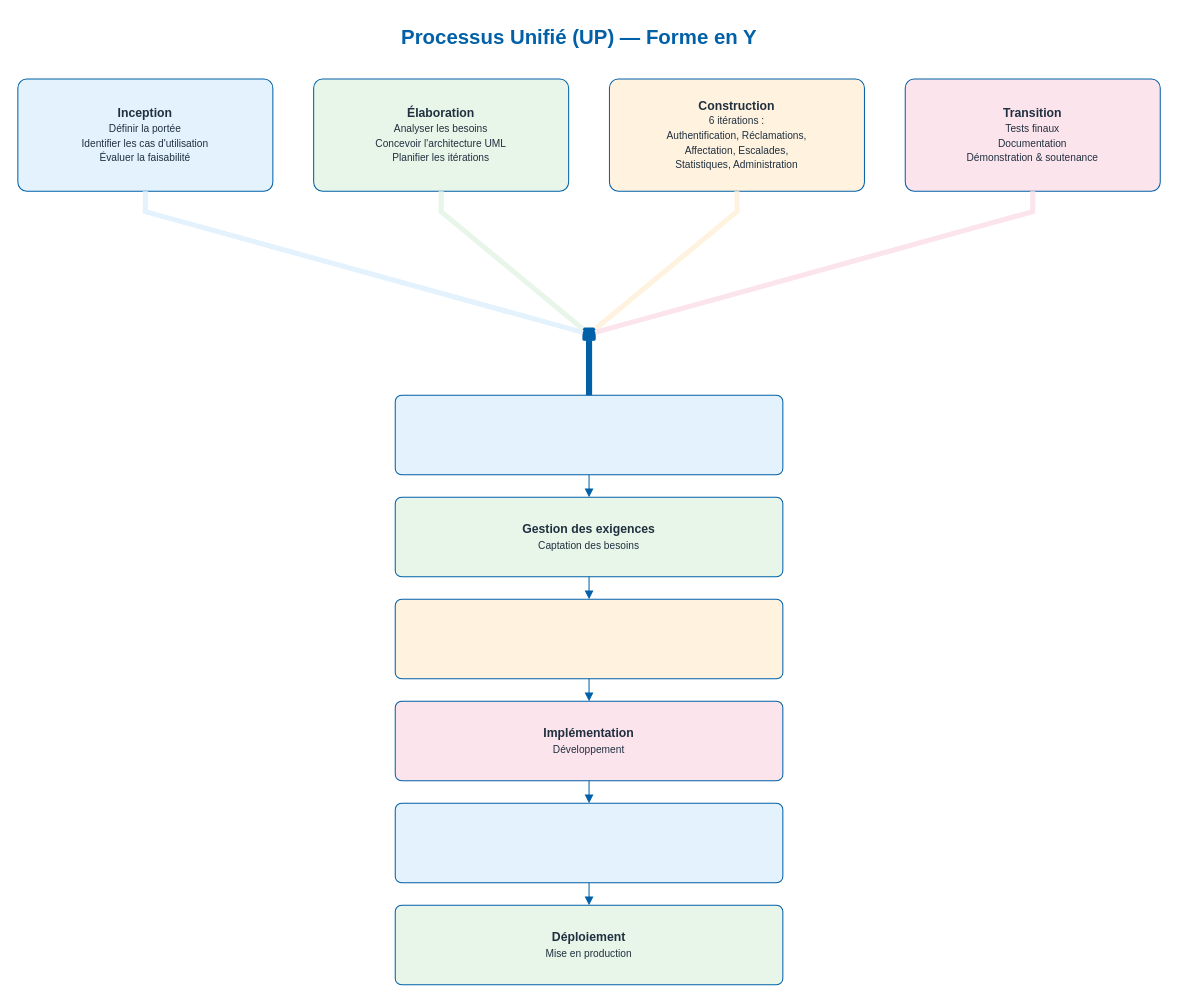
Image size: 1178x1003. Some labels were removed from this diagram. The centre of each missing label's shape, as x and y in pixels:
Analyse et conception Conception logicielle: the point at 588,638
Modélisation du domaine Compréhension métier: the point at 588,434
Tests Validation: the point at 588,842
